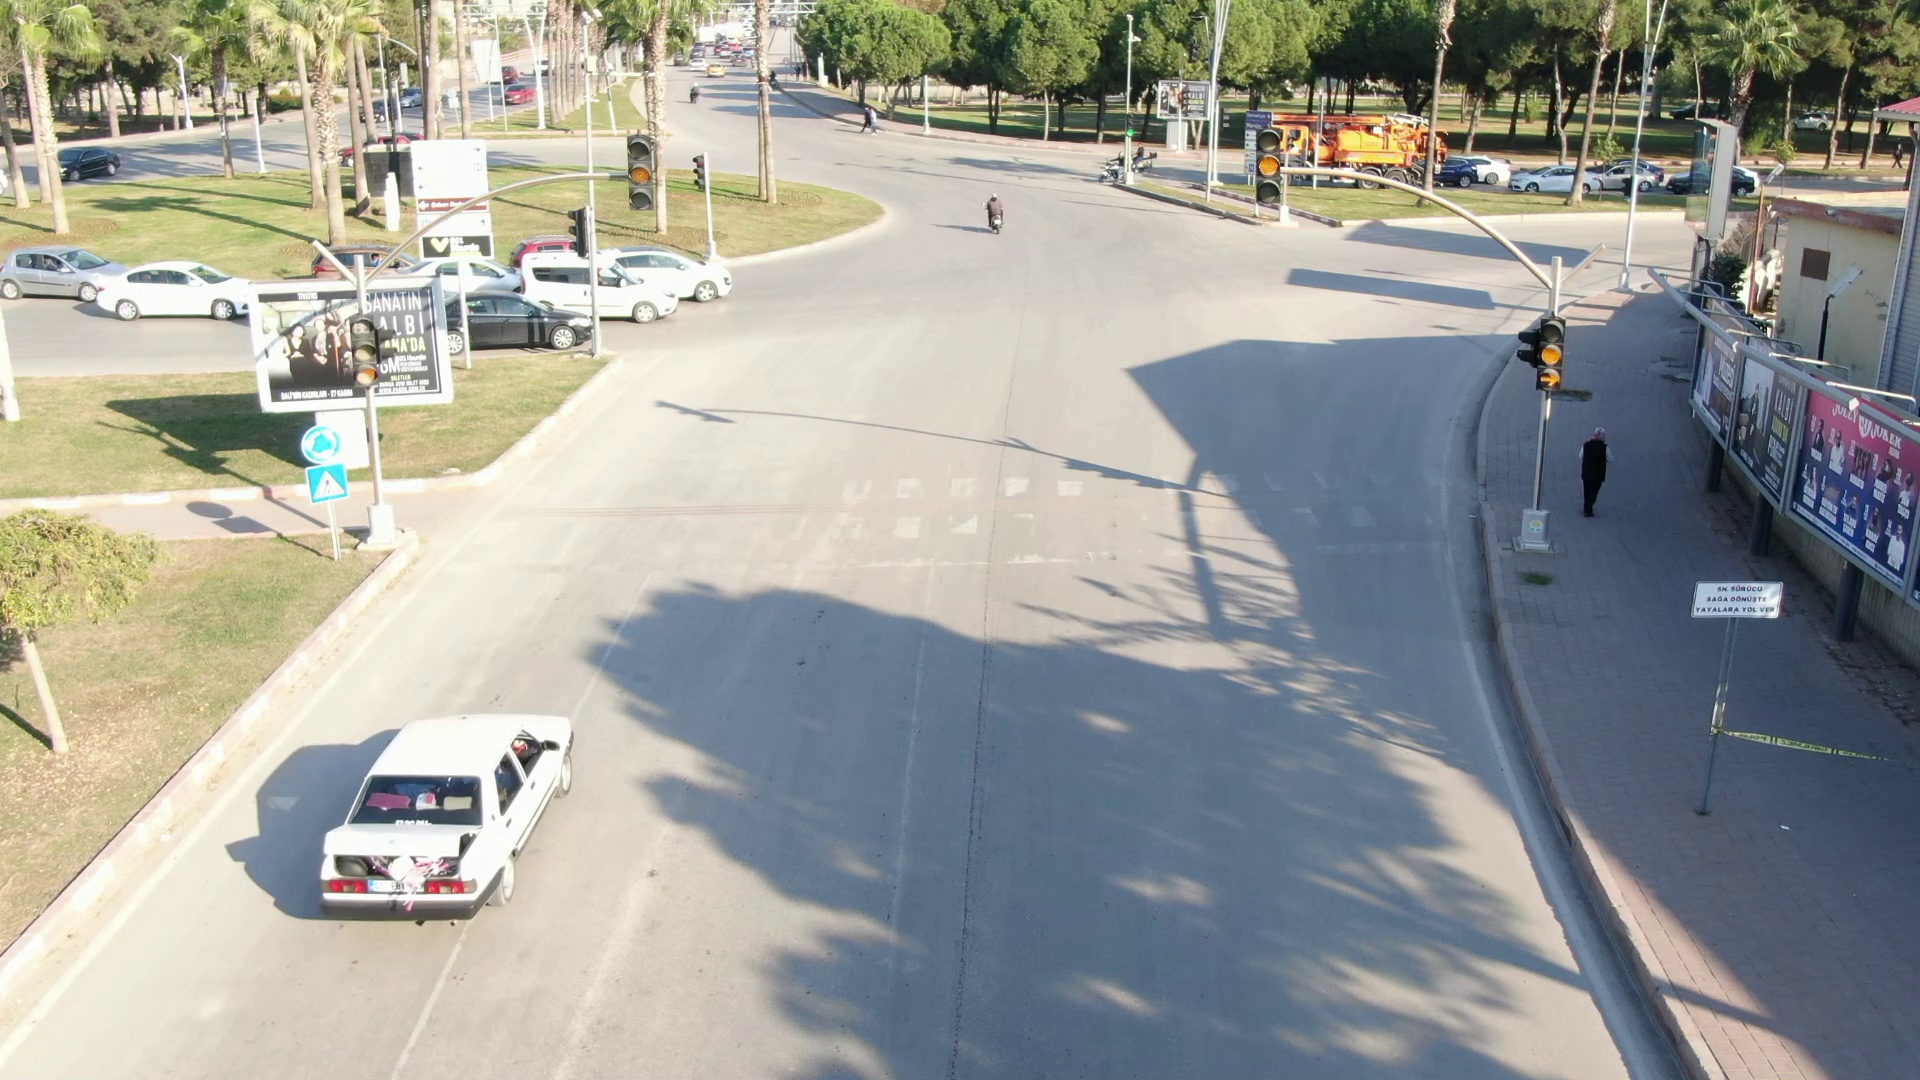car: (300, 702, 582, 919), (510, 241, 688, 321), (437, 288, 612, 351), (86, 257, 272, 317), (1, 235, 121, 300)
person: (1574, 415, 1617, 529), (959, 194, 1017, 231)
